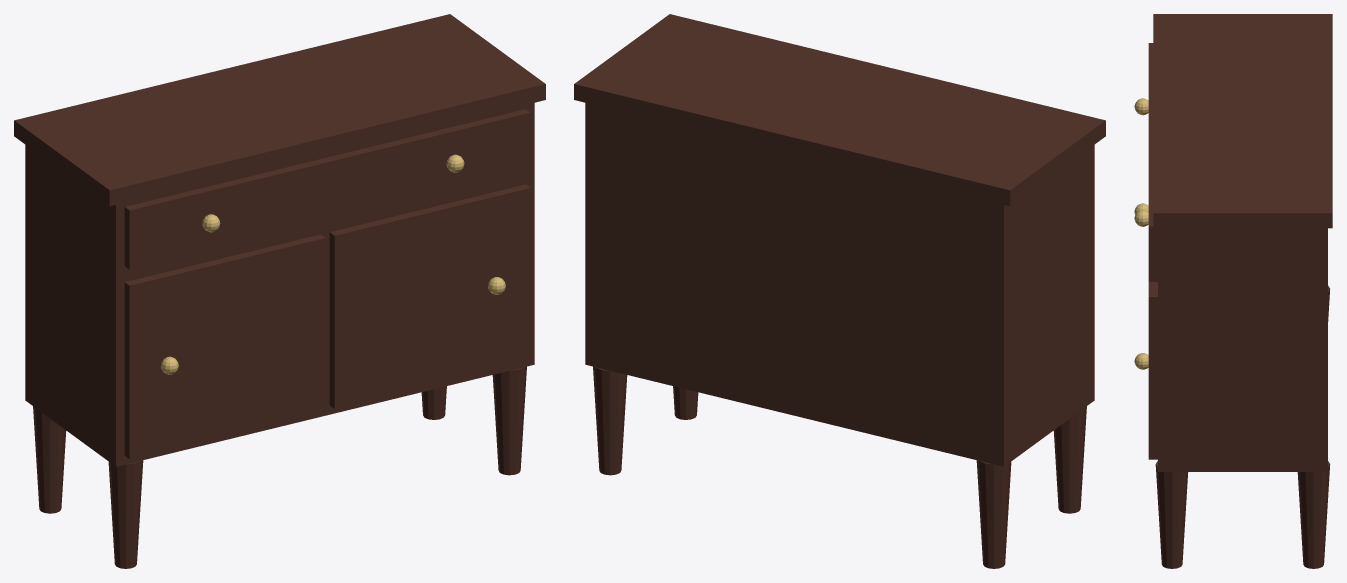
The model's file is SM_Furniture_EntryCabinet_01.glb.
The picture shows the model from 3 angles, left to right: view 1: azimuth 30°, elevation 25°; view 2: azimuth 150°, elevation 25°; view 3: azimuth 270°, elevation 25°; orthographic projection. The views are drawn at different scales.
Parts seen in each view (by area): view 1: SM_Furniture_EntryCabinet_01; view 2: SM_Furniture_EntryCabinet_01; view 3: SM_Furniture_EntryCabinet_01.
Boxes of the visible parts, <box> form: SM_Furniture_EntryCabinet_01: <box>14,14,545,568</box>; SM_Furniture_EntryCabinet_01: <box>574,14,1105,568</box>; SM_Furniture_EntryCabinet_01: <box>1134,14,1332,568</box>.
Bounding box in the file's own units: 1 × 0.8495 × 0.42.
